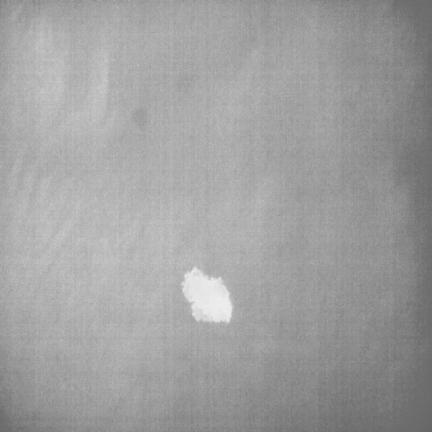flukeprints: (182, 267, 232, 322)
